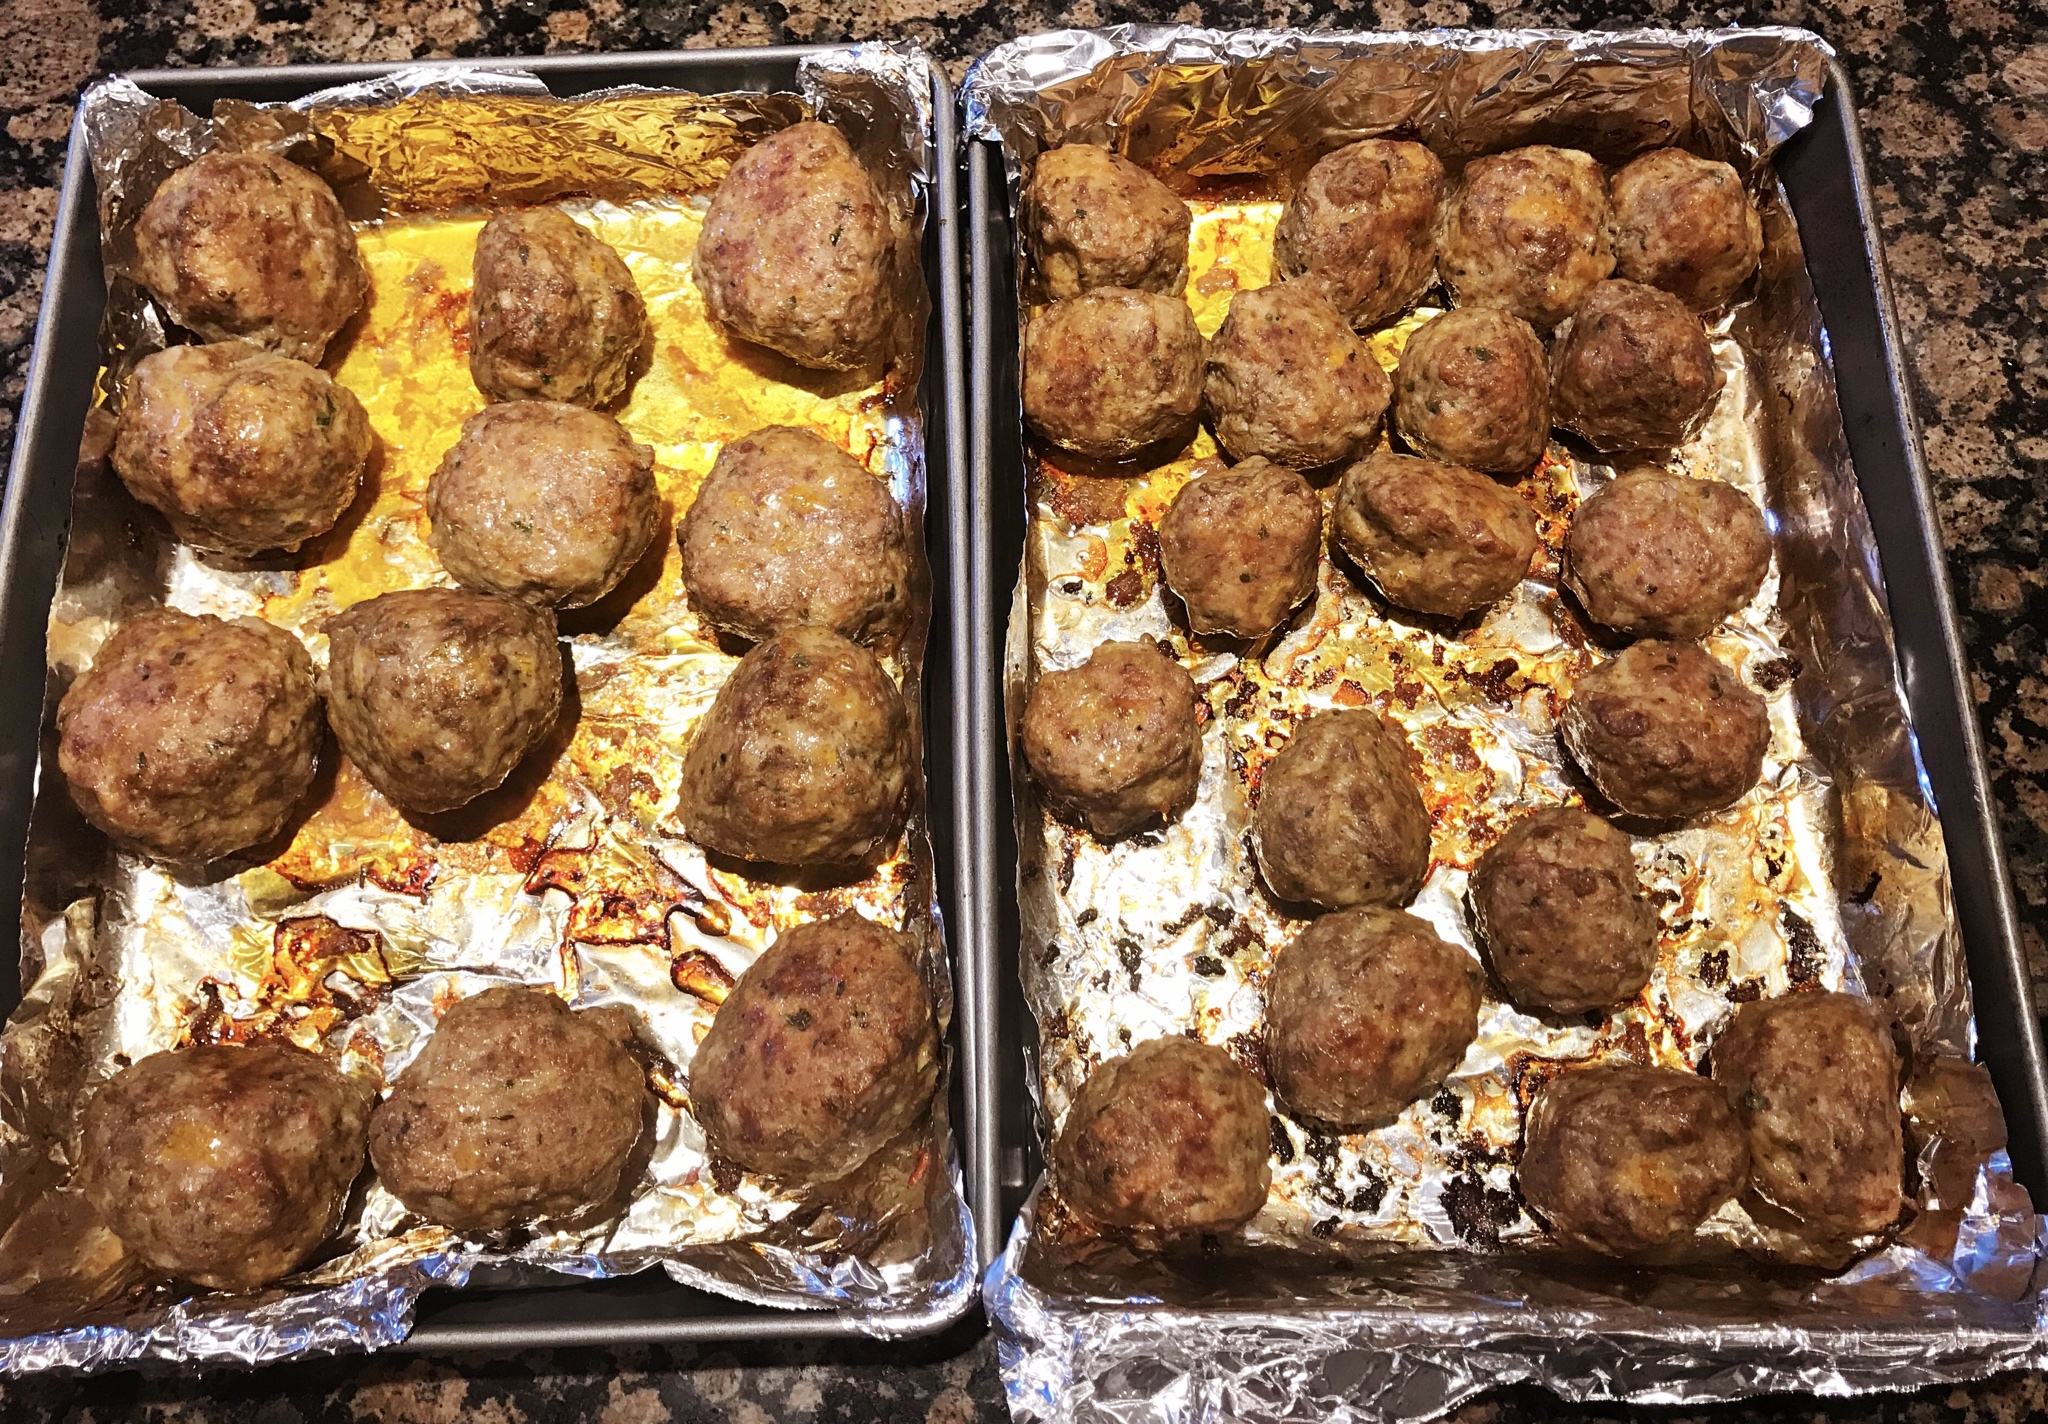meatballs: (1208, 143, 1766, 643), (87, 1029, 644, 1270), (434, 391, 666, 601), (1245, 717, 1488, 907)
